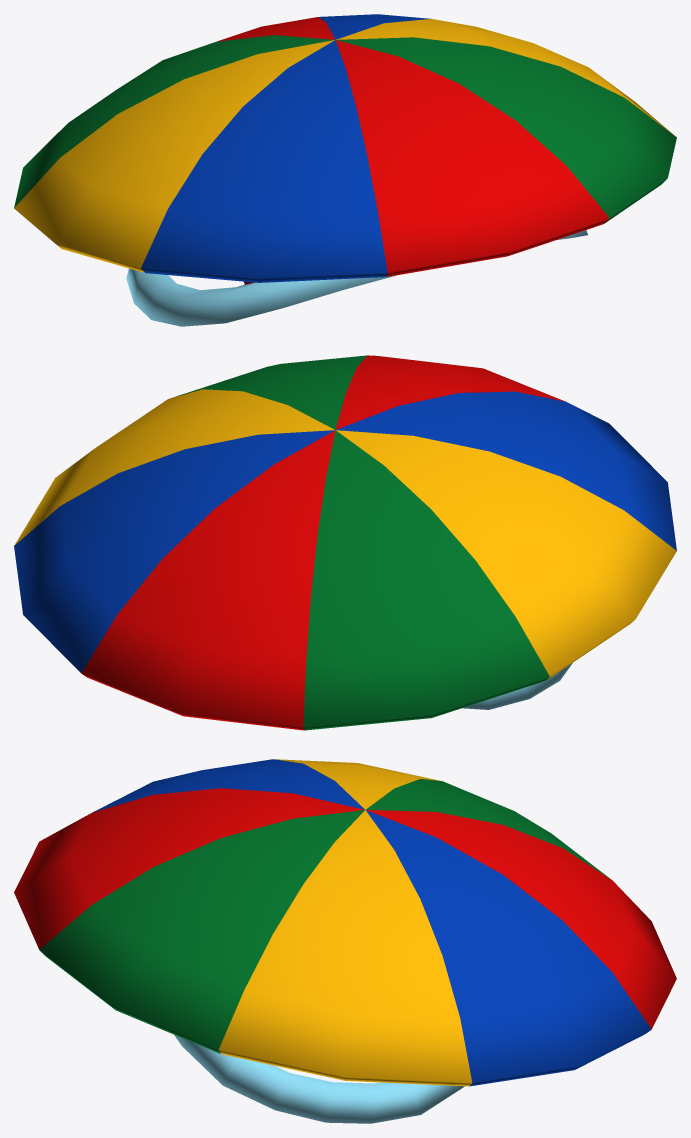
File: Heat_LV2.glb
3 renders of one model, top to bottom at view 1: azimuth 30°, elevation 25°; view 2: azimuth 150°, elevation 25°; view 3: azimuth 270°, elevation 25°, orthographic.
Parts seen in each view (by area): view 1: BodyHeat_LV2; view 2: BodyHeat_LV2; view 3: BodyHeat_LV2.
Boxes of the visible parts, left/top/right/bottom form: BodyHeat_LV2: left=14, top=14, right=676, bottom=326; BodyHeat_LV2: left=14, top=355, right=676, bottom=730; BodyHeat_LV2: left=14, top=759, right=676, bottom=1123.
Bounding box in the file's own units: 1.59 × 0.5828 × 1.57.
Materials: 1 (1 with a texture image).
